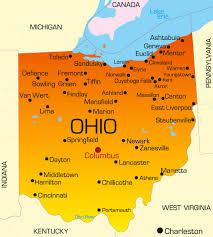ohio: (19, 46, 189, 231)
